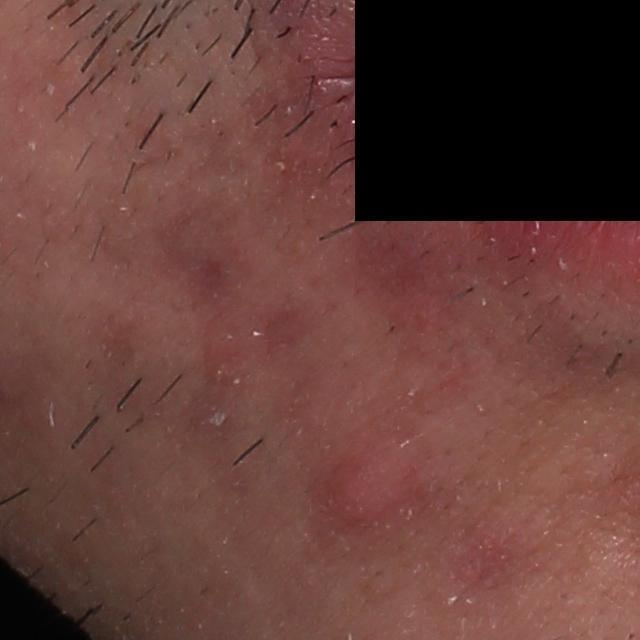papule: (311, 448, 415, 533)
